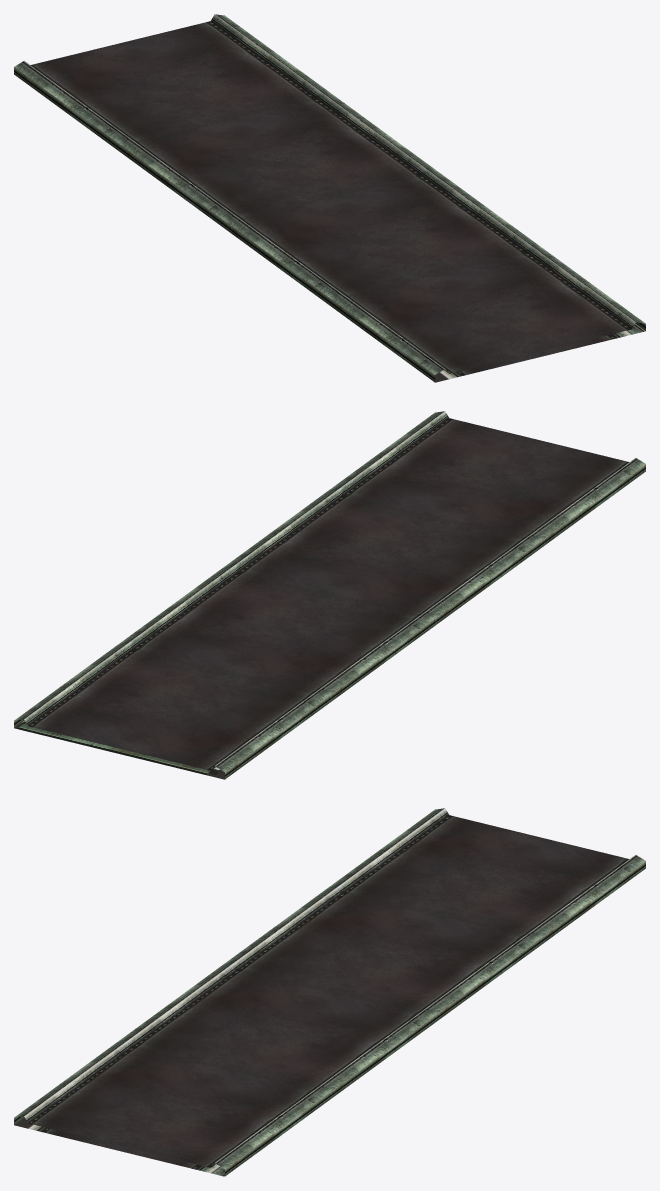
Rendered from Road_Long.fbx.
The picture shows the model from 3 angles, top to bottom: view 1: azimuth 30°, elevation 25°; view 2: azimuth 150°, elevation 25°; view 3: azimuth 330°, elevation 25°; orthographic projection.
Parts seen in each view (by area): view 1: Road_Long1; view 2: Road_Long1; view 3: Road_Long1.
Boxes of the visible parts, box(x1,y1,x2,y2) form: Road_Long1: box(14, 14, 645, 382); Road_Long1: box(14, 411, 645, 779); Road_Long1: box(14, 808, 645, 1176).
Size of what is drawn, in the model's own units: 18.5 by 0.9472 by 64.
